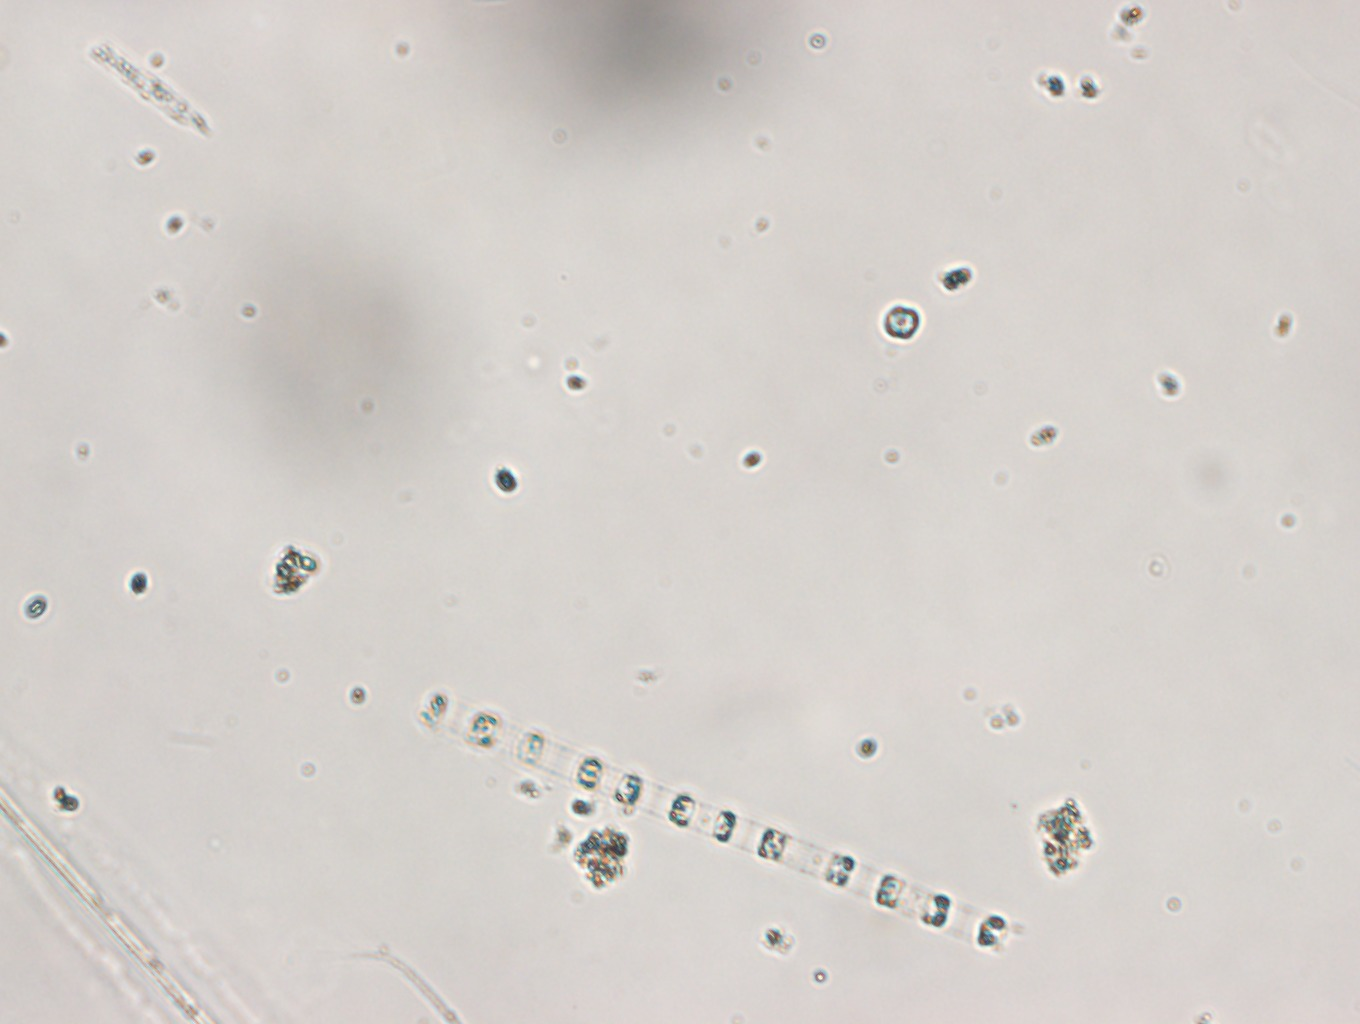skeletonema: (415, 692, 1026, 953)
